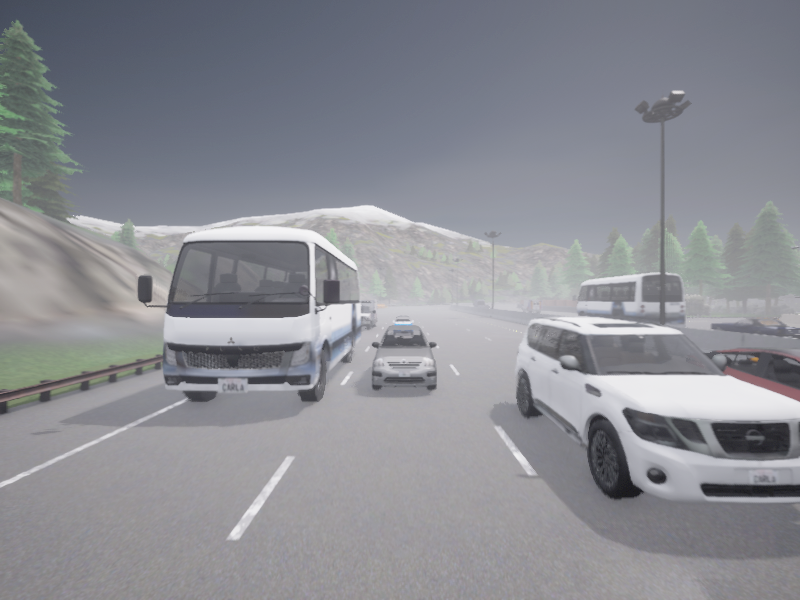vehicle: (515, 317, 799, 503), (138, 226, 360, 401), (573, 273, 685, 326), (704, 347, 799, 401), (372, 325, 436, 390), (710, 318, 799, 338), (360, 300, 376, 330), (521, 300, 541, 312), (392, 315, 413, 324), (473, 299, 484, 307), (485, 304, 488, 307)
